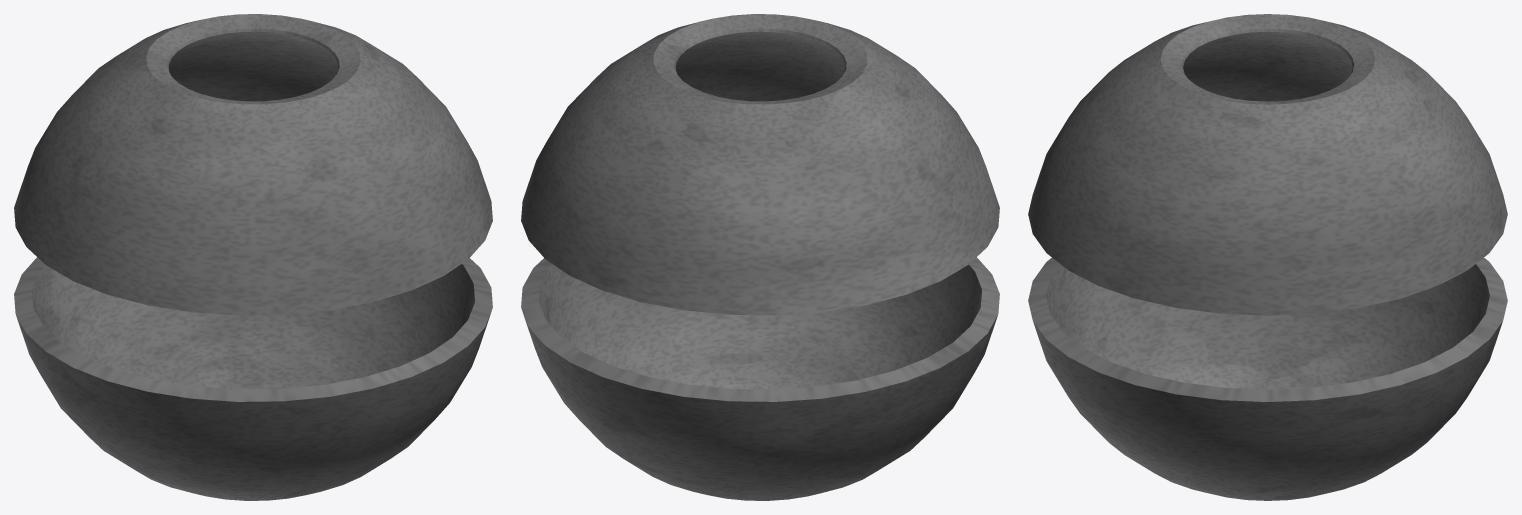
Rendered from MetalPlanet.fbx.
The picture shows the model from 3 angles, left to right: view 1: azimuth 30°, elevation 25°; view 2: azimuth 150°, elevation 25°; view 3: azimuth 270°, elevation 25°; orthographic projection.
Visible parts, largest first — view 1: Sphere; view 2: Sphere; view 3: Sphere.
Part boxes in pixels (x1=…): Sphere: x1=14, y1=14, x2=492, y2=500; Sphere: x1=521, y1=14, x2=999, y2=500; Sphere: x1=1028, y1=14, x2=1507, y2=500.
Size of the model in its own units: 1047 by 954 by 1047.
